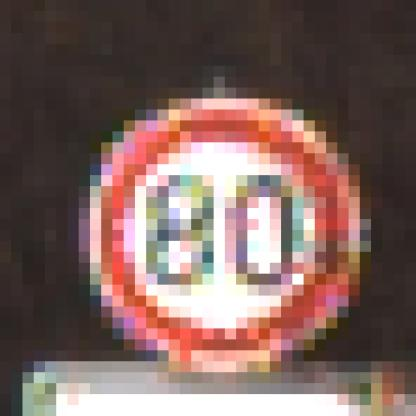Speed Limit 80: (91, 111, 356, 364)
